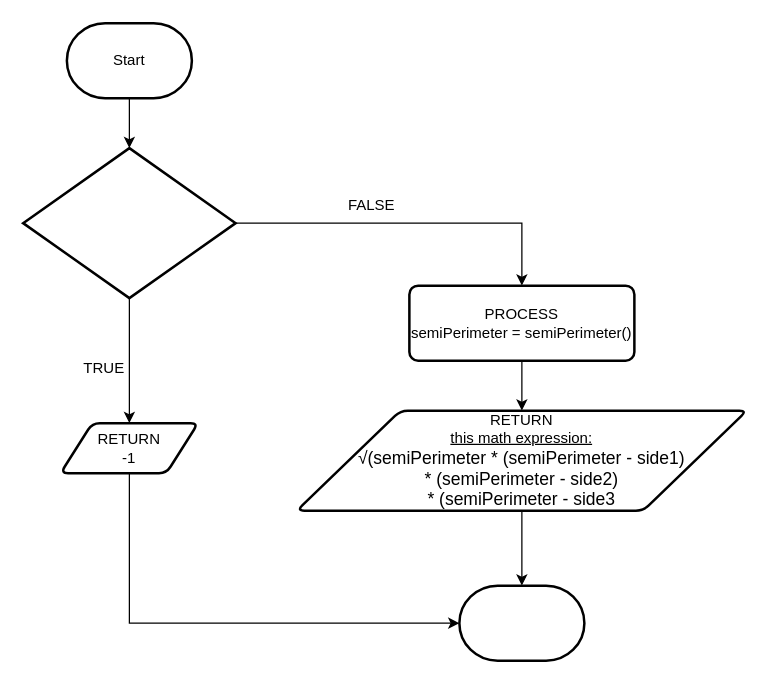
Some shapes in this 769 by 683 pixel diagram are drawn without their labels. Here are the shapes that lost their labels. From the top down, the centre of each, then its label:
At point 128,222: "IF the triangle isn't valid".
At point 521,622: "Stop".
